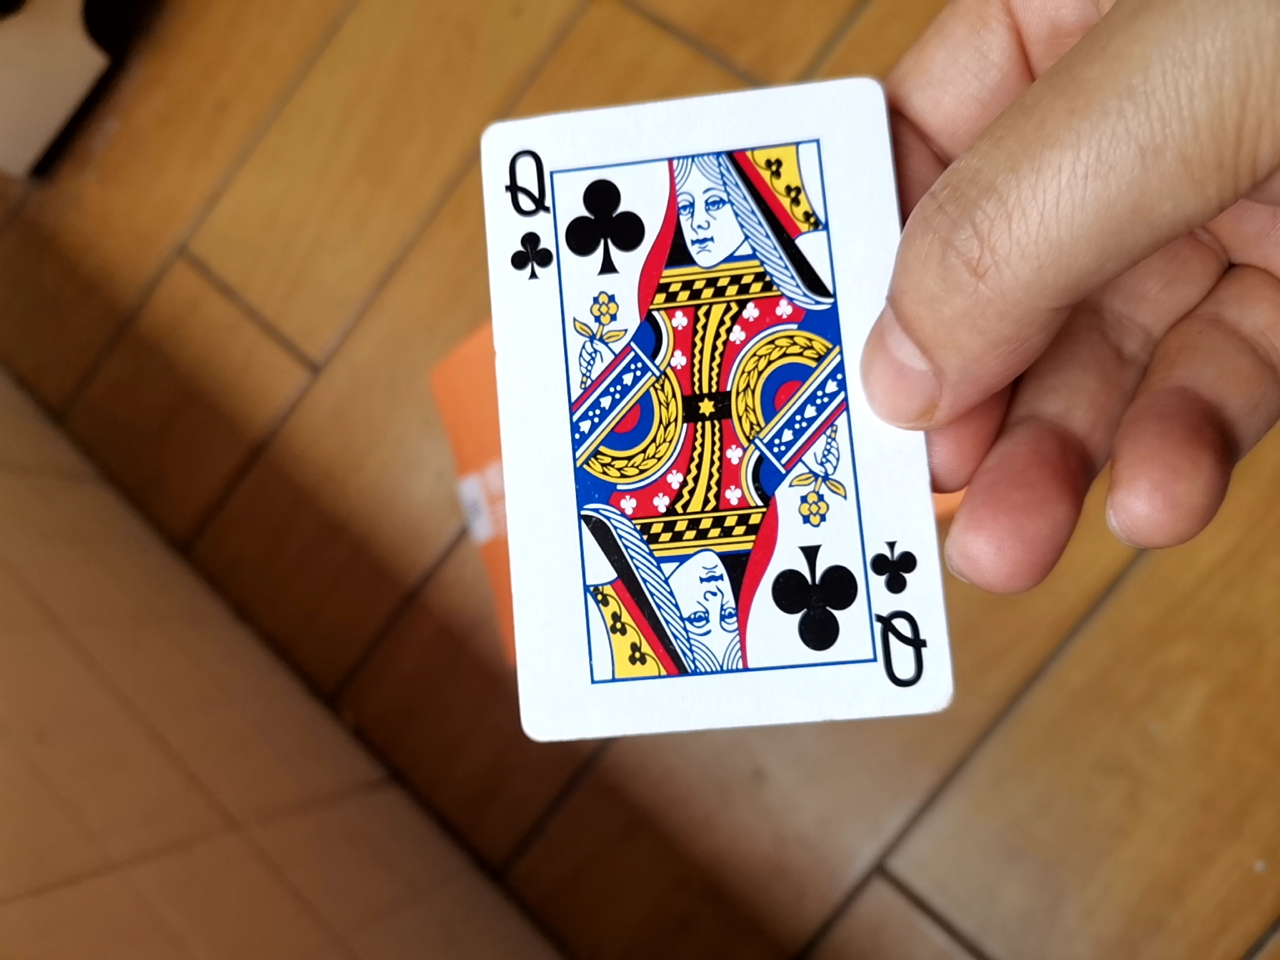mh q: (459, 77, 946, 754)
